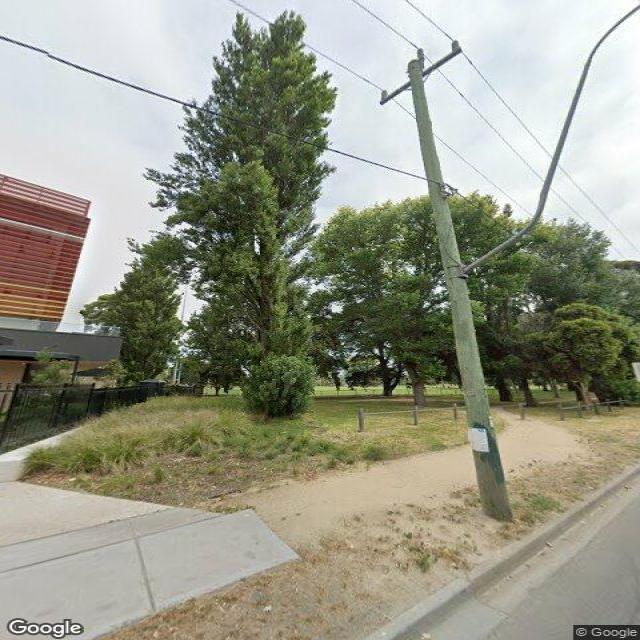HV-transmission: (378, 41, 464, 106)
crossarm: (379, 48, 463, 106)
streetlight: (464, 5, 640, 269)
timber-pole: (396, 56, 510, 518)
